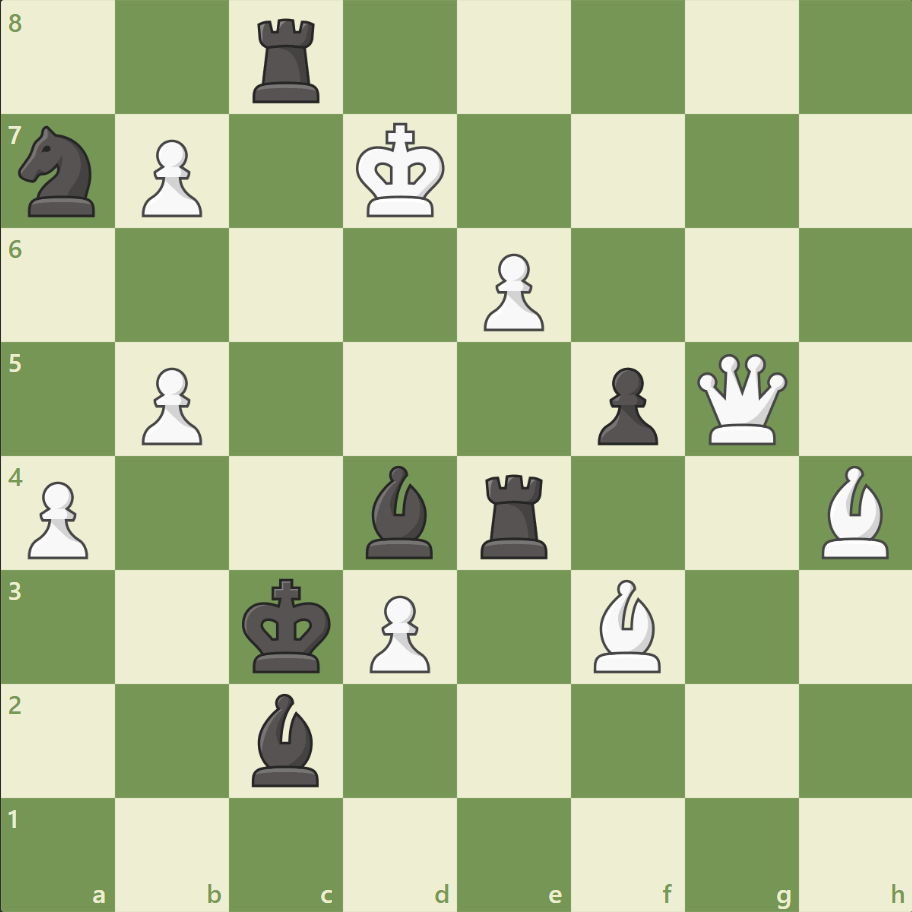B: (812, 460, 896, 563), (585, 574, 669, 676)
K: (351, 117, 451, 225)
P: (133, 132, 208, 223), (474, 246, 549, 337), (133, 359, 208, 450), (20, 473, 95, 564), (361, 586, 435, 677)
Q: (691, 349, 790, 449)
b: (358, 460, 442, 563), (244, 687, 328, 790)
k: (238, 571, 338, 679)
n: (11, 121, 108, 223)
p: (588, 359, 662, 450)
r: (246, 12, 329, 109), (473, 466, 556, 563)
